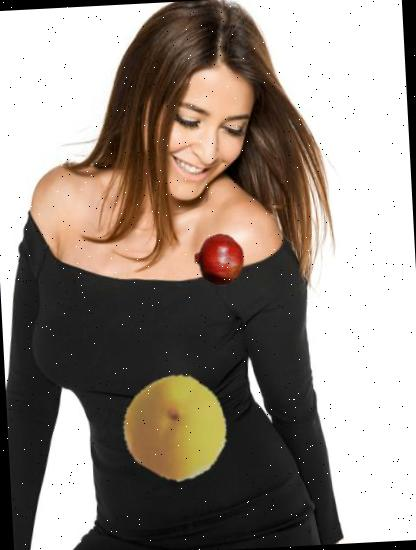Peach: (121, 371, 232, 482)
Pomegranate: (192, 232, 247, 288)
